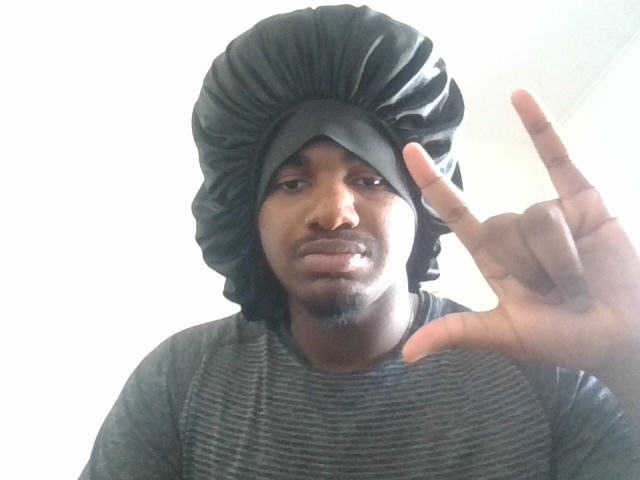I Love You: (357, 82, 640, 392)
